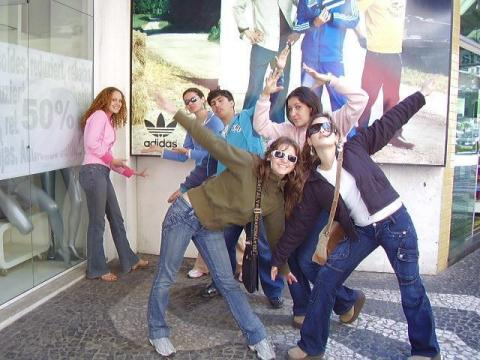addidas: (139, 114, 183, 142)
